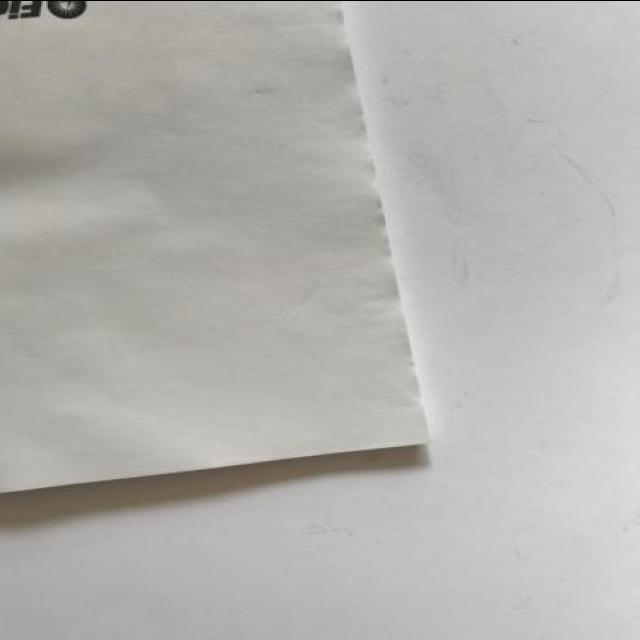kertas: (0, 0, 431, 495)
